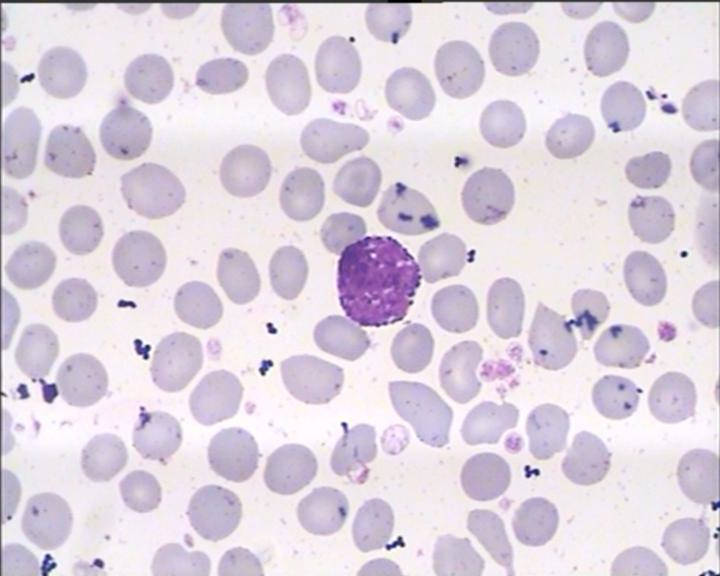baso: (331, 231, 422, 328)
